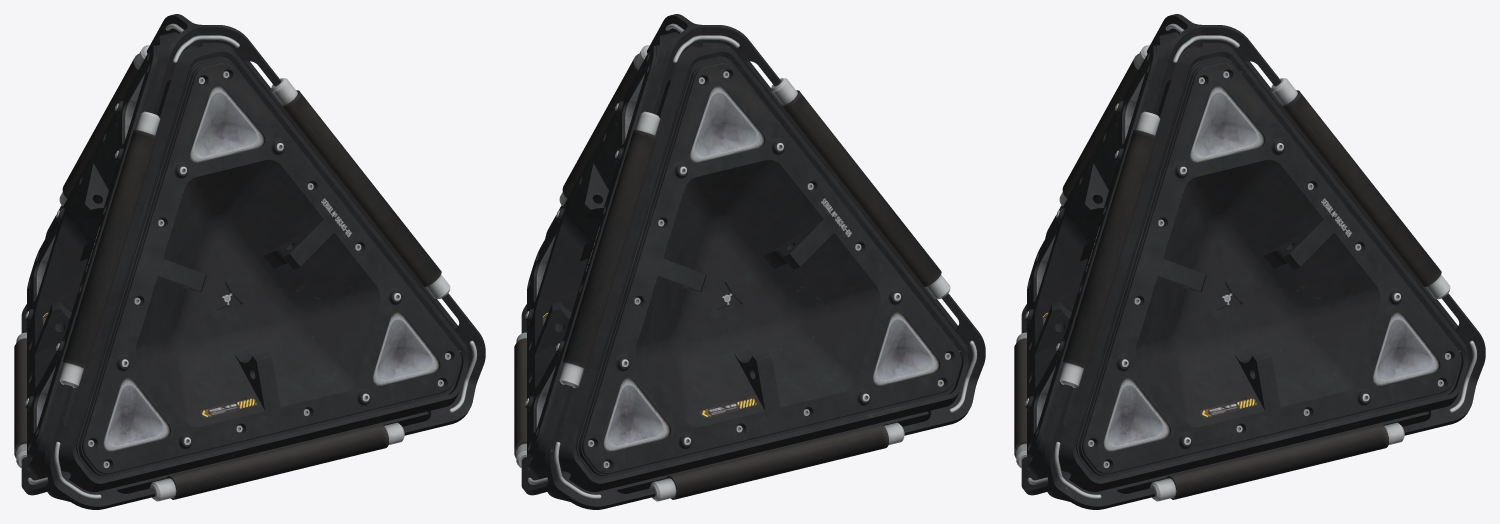
The model's file is grenade.glb.
3 views of the same model, side by side, from view 1: azimuth 30°, elevation 25°; view 2: azimuth 150°, elevation 25°; view 3: azimuth 270°, elevation 25° (orthographic).
Visible parts, largest first — view 1: Sci-fi_triangle_container_Sci-fi_triangle_container_0; view 2: Sci-fi_triangle_container_Sci-fi_triangle_container_0; view 3: Sci-fi_triangle_container_Sci-fi_triangle_container_0.
Part boxes in pixels (x1,y1,x2,y2): Sci-fi_triangle_container_Sci-fi_triangle_container_0: (14,14,485,509); Sci-fi_triangle_container_Sci-fi_triangle_container_0: (514,14,985,509); Sci-fi_triangle_container_Sci-fi_triangle_container_0: (1014,14,1485,509).
Size of the model in its own units: 1.01 by 0.8448 by 0.9359.
1 material, 1 textured.
